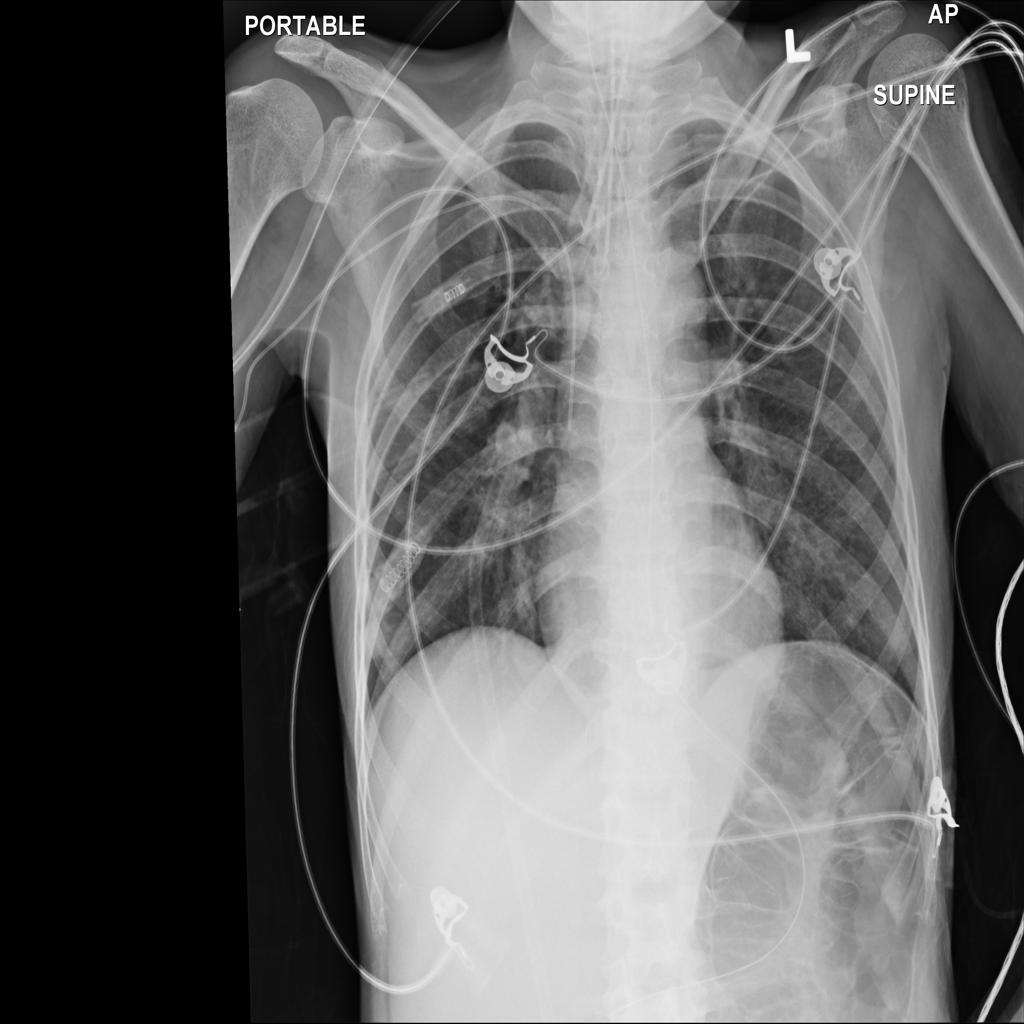nodule: (364, 610, 409, 670)
